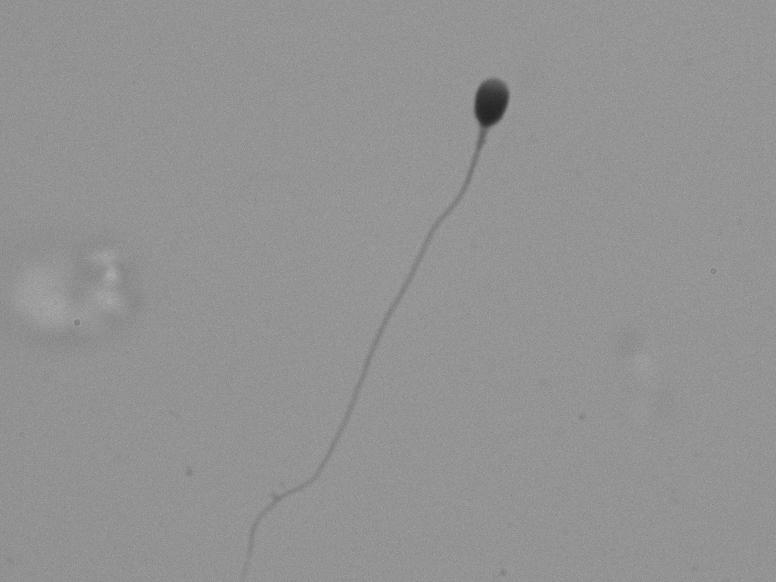Normal: (179, 53, 514, 568)
